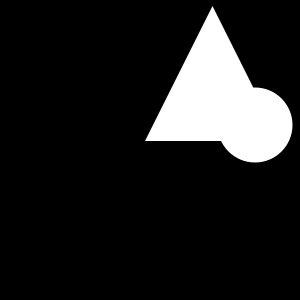rectangle: (218, 88, 292, 163)
triangle: (145, 6, 280, 141)
